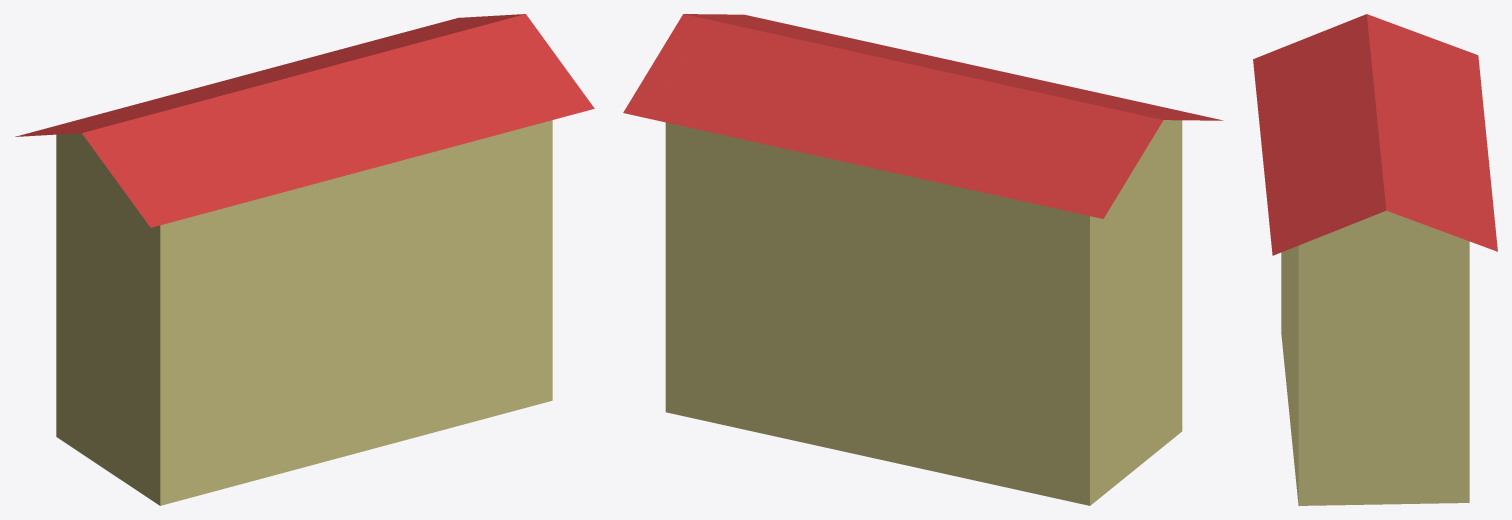
3 views of the same model, side by side, from view 1: azimuth 30°, elevation 25°; view 2: azimuth 150°, elevation 25°; view 3: azimuth 270°, elevation 25° (orthographic). The views are drawn at different scales.
Bounding box in the file's own units: 8.76 × 4.52 × 6.22.
